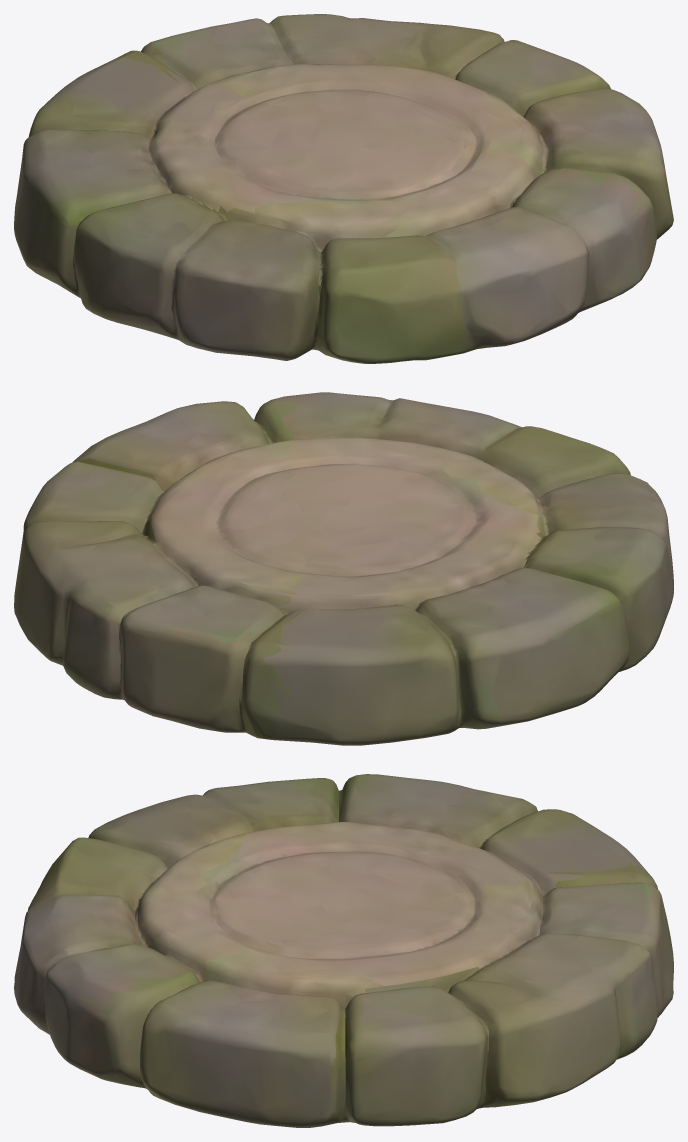
File: pasadero.glb
3 renders of one model, top to bottom at view 1: azimuth 30°, elevation 25°; view 2: azimuth 150°, elevation 25°; view 3: azimuth 270°, elevation 25°, orthographic.
Visible parts, largest first — view 1: pasadero_malla; view 2: pasadero_malla; view 3: pasadero_malla.
Part boxes in pixels (left/top/right/bottom): pasadero_malla: left=14, top=14, right=673, bottom=363; pasadero_malla: left=14, top=392, right=673, bottom=745; pasadero_malla: left=14, top=774, right=673, bottom=1127.
Bounding box in the file's own units: 0.1779 × 0.0287 × 0.1765.
1 material, 1 textured.
